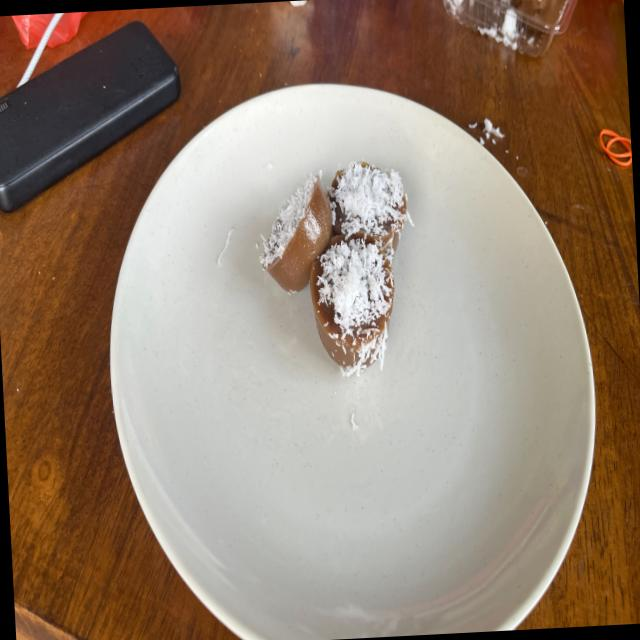Kuih lompang: (310, 238, 395, 377), (260, 174, 333, 293), (328, 162, 407, 252)
